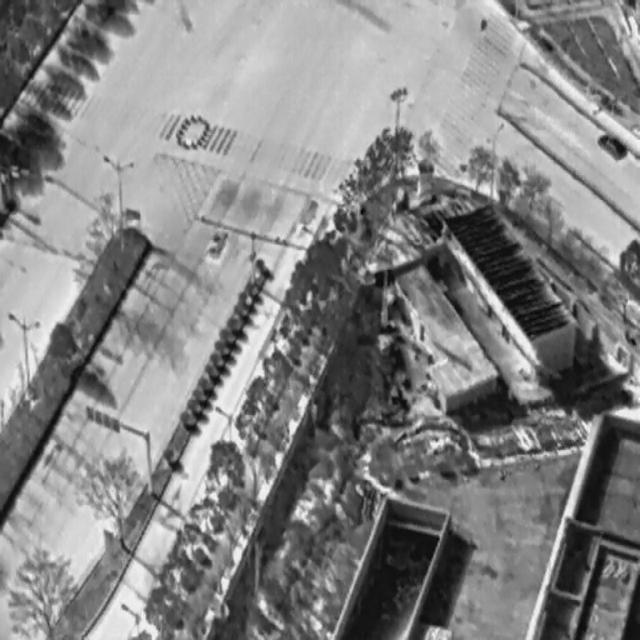Car: (594, 125, 629, 165), (205, 225, 228, 260)
Person: (479, 18, 487, 32)
